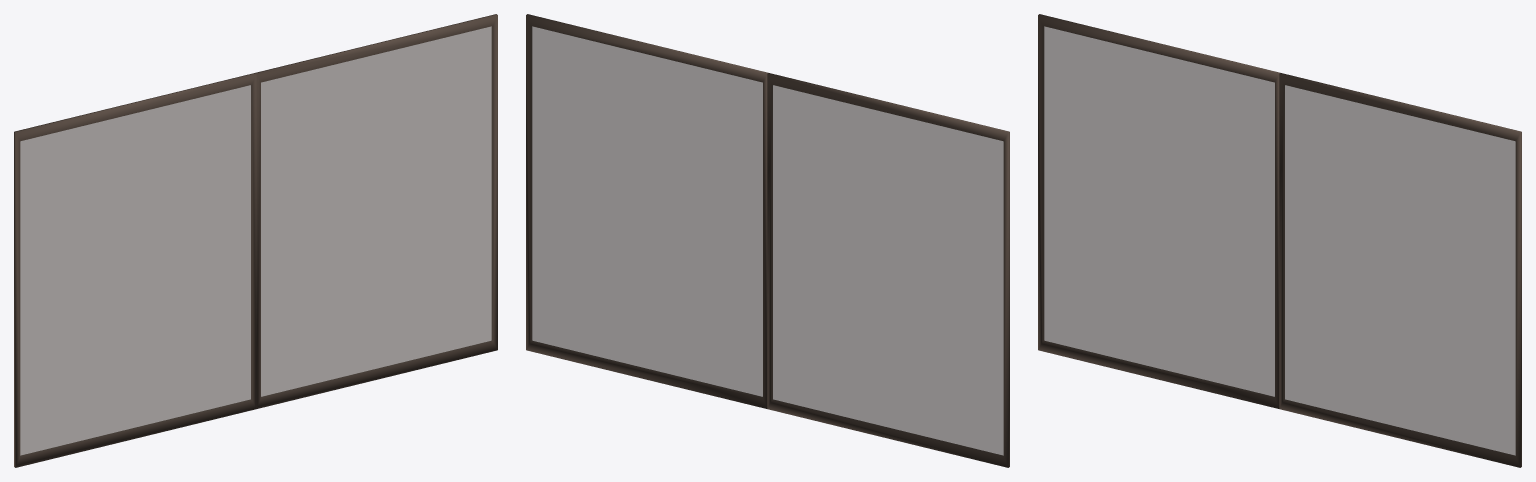
The model's file is Door_Entrance.glb.
The picture shows the model from 3 angles, left to right: view 1: azimuth 30°, elevation 25°; view 2: azimuth 150°, elevation 25°; view 3: azimuth 330°, elevation 25°; orthographic projection.
Parts seen in each view (by area): view 1: DoorLeft, DoorRight; view 2: DoorLeft, DoorRight; view 3: DoorRight, DoorLeft.
Boxes of the visible parts, x1,y1,x2,y2 form: DoorLeft: (14,73,256,467); DoorRight: (255,14,497,408); DoorLeft: (767,73,1009,467); DoorRight: (526,14,768,408); DoorRight: (1279,73,1521,467); DoorLeft: (1038,14,1280,408).
Size of what is drawn, in the model's own units: 7.96 by 5.29 by 0.0391.
Materials: 2 (2 with a texture image).
